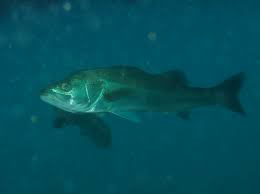suzuki: (38, 59, 251, 122)
